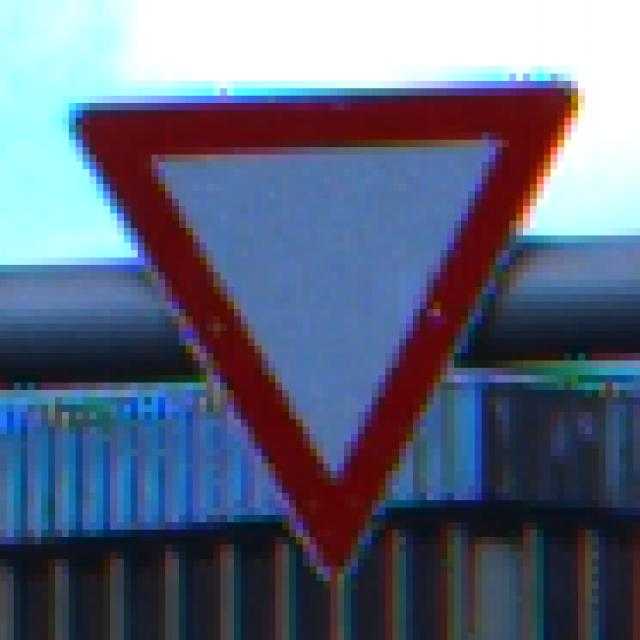Give Way: (56, 60, 586, 589)
